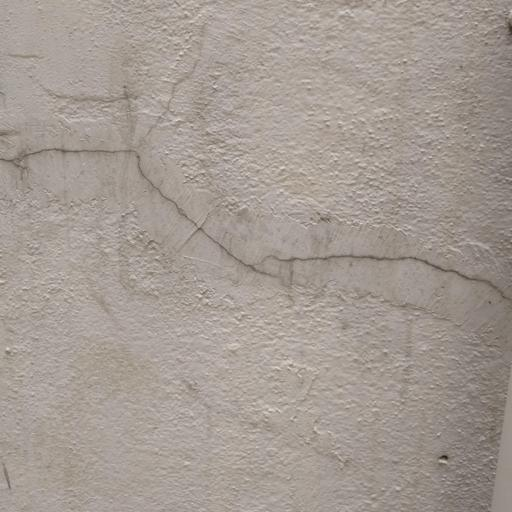minor_crack: (1, 24, 512, 326)
